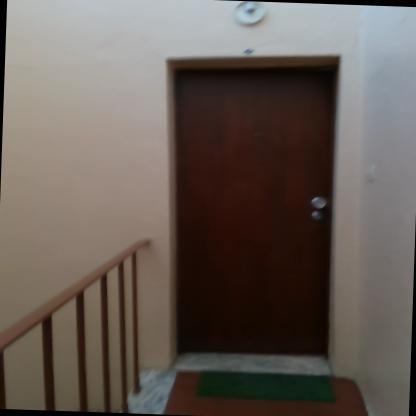closed: (141, 34, 365, 374)
